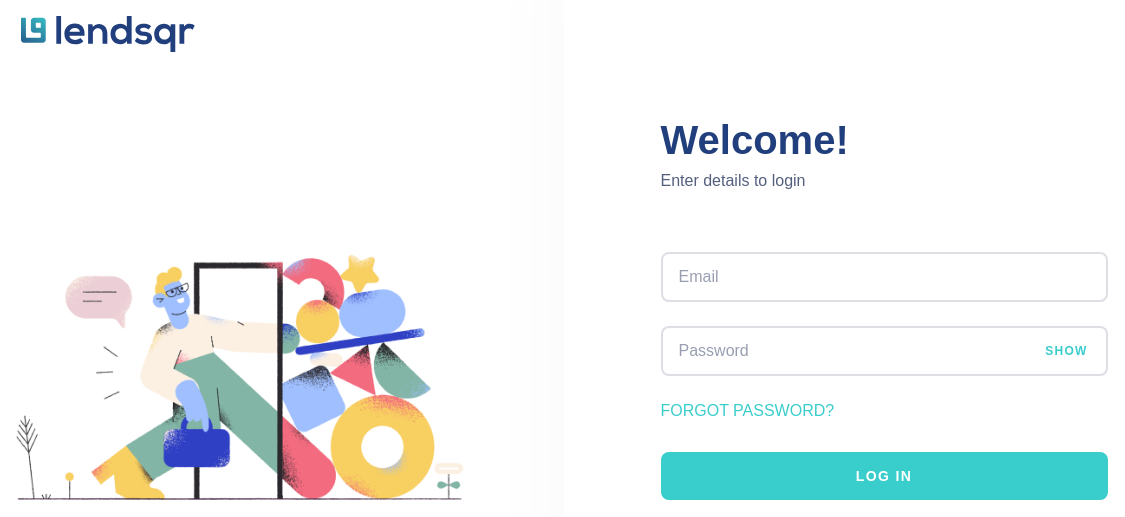
it: Login Component › toggles password visibility
Step 1. Click the button "SHOW" → (1066,351), box [1041,340,1092,362]
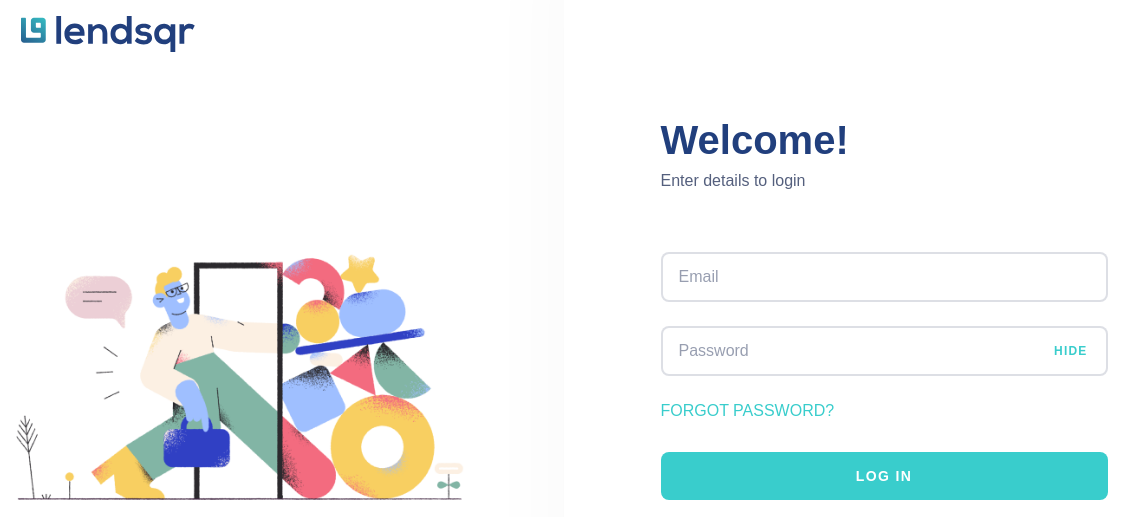
Expected: the button "HIDE" is shown, [1050,340,1092,362]
